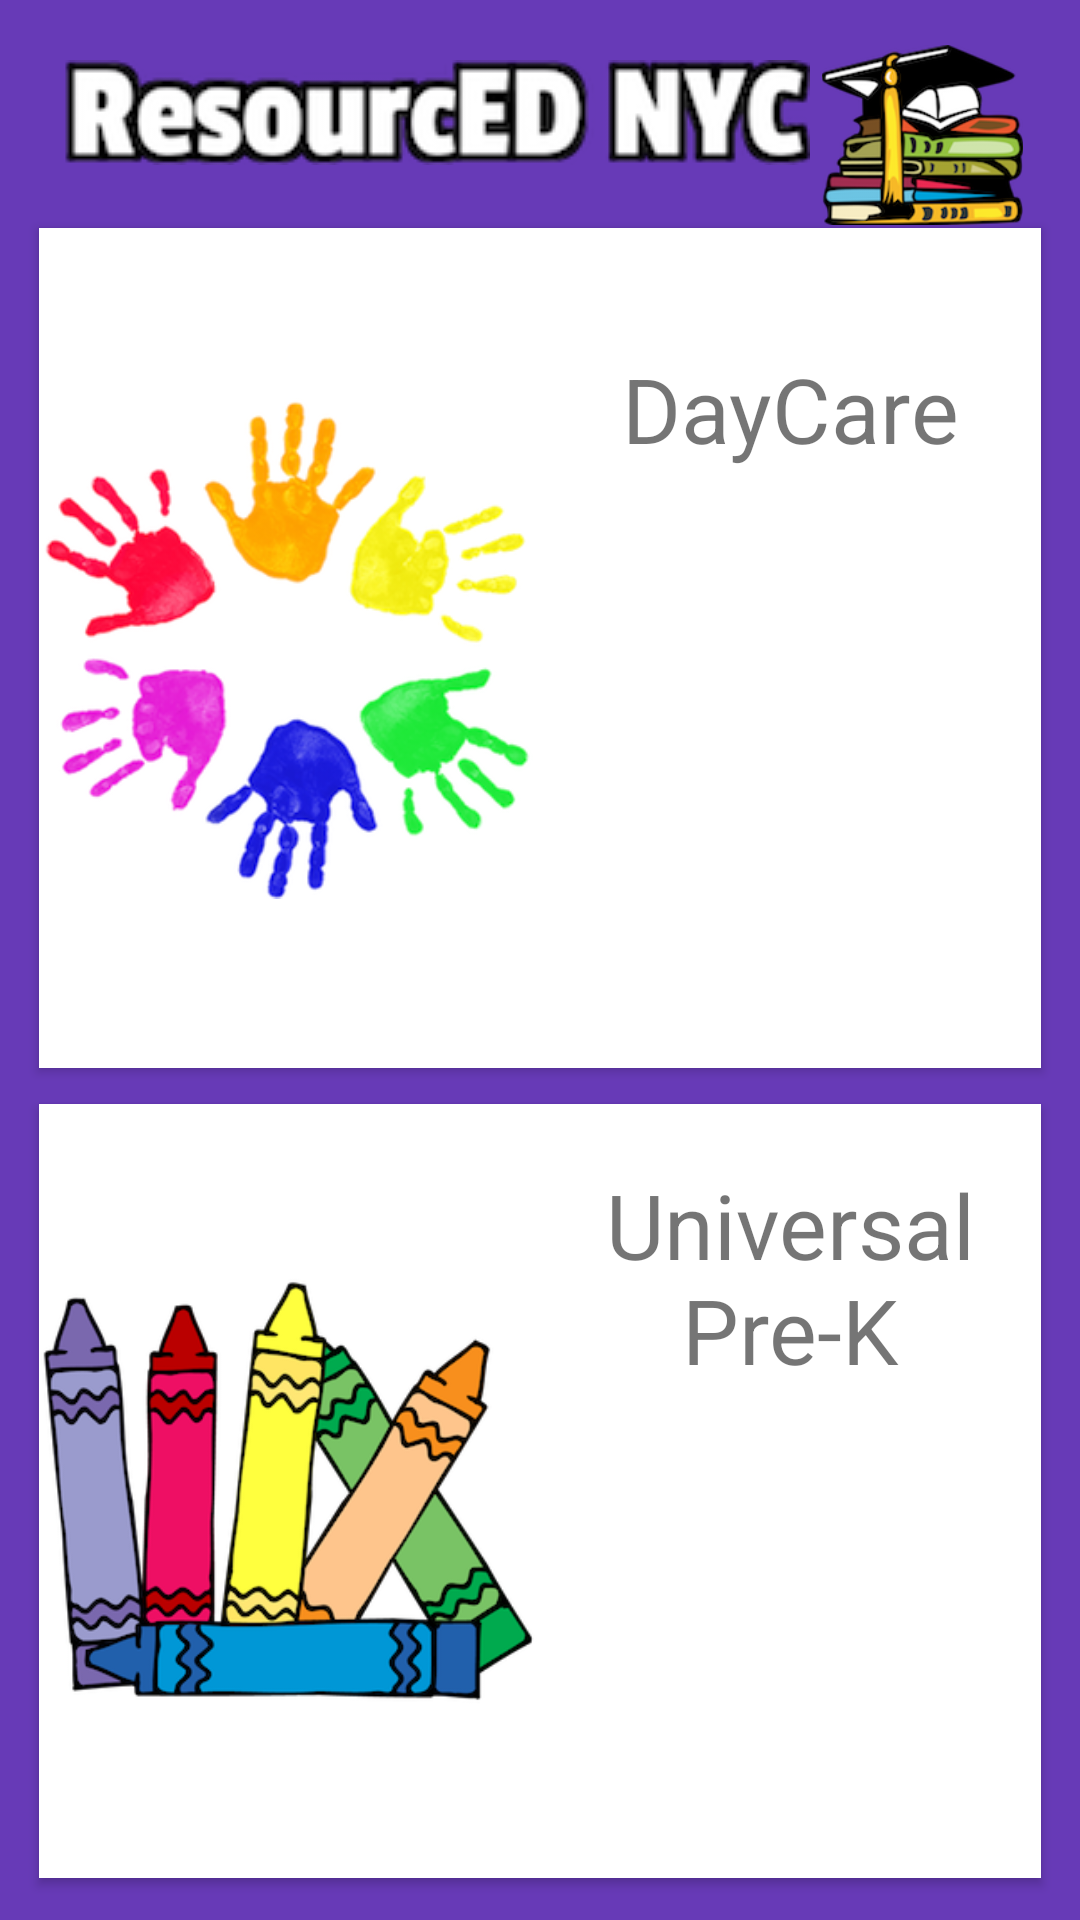

Where to tap for icons on this 1080px×1920px app screen, as (x,y):
books stack: (922,135)
